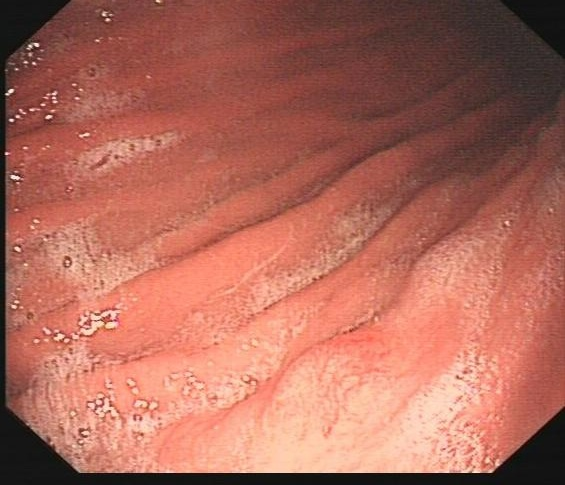Polyp: (258, 328, 389, 450)
